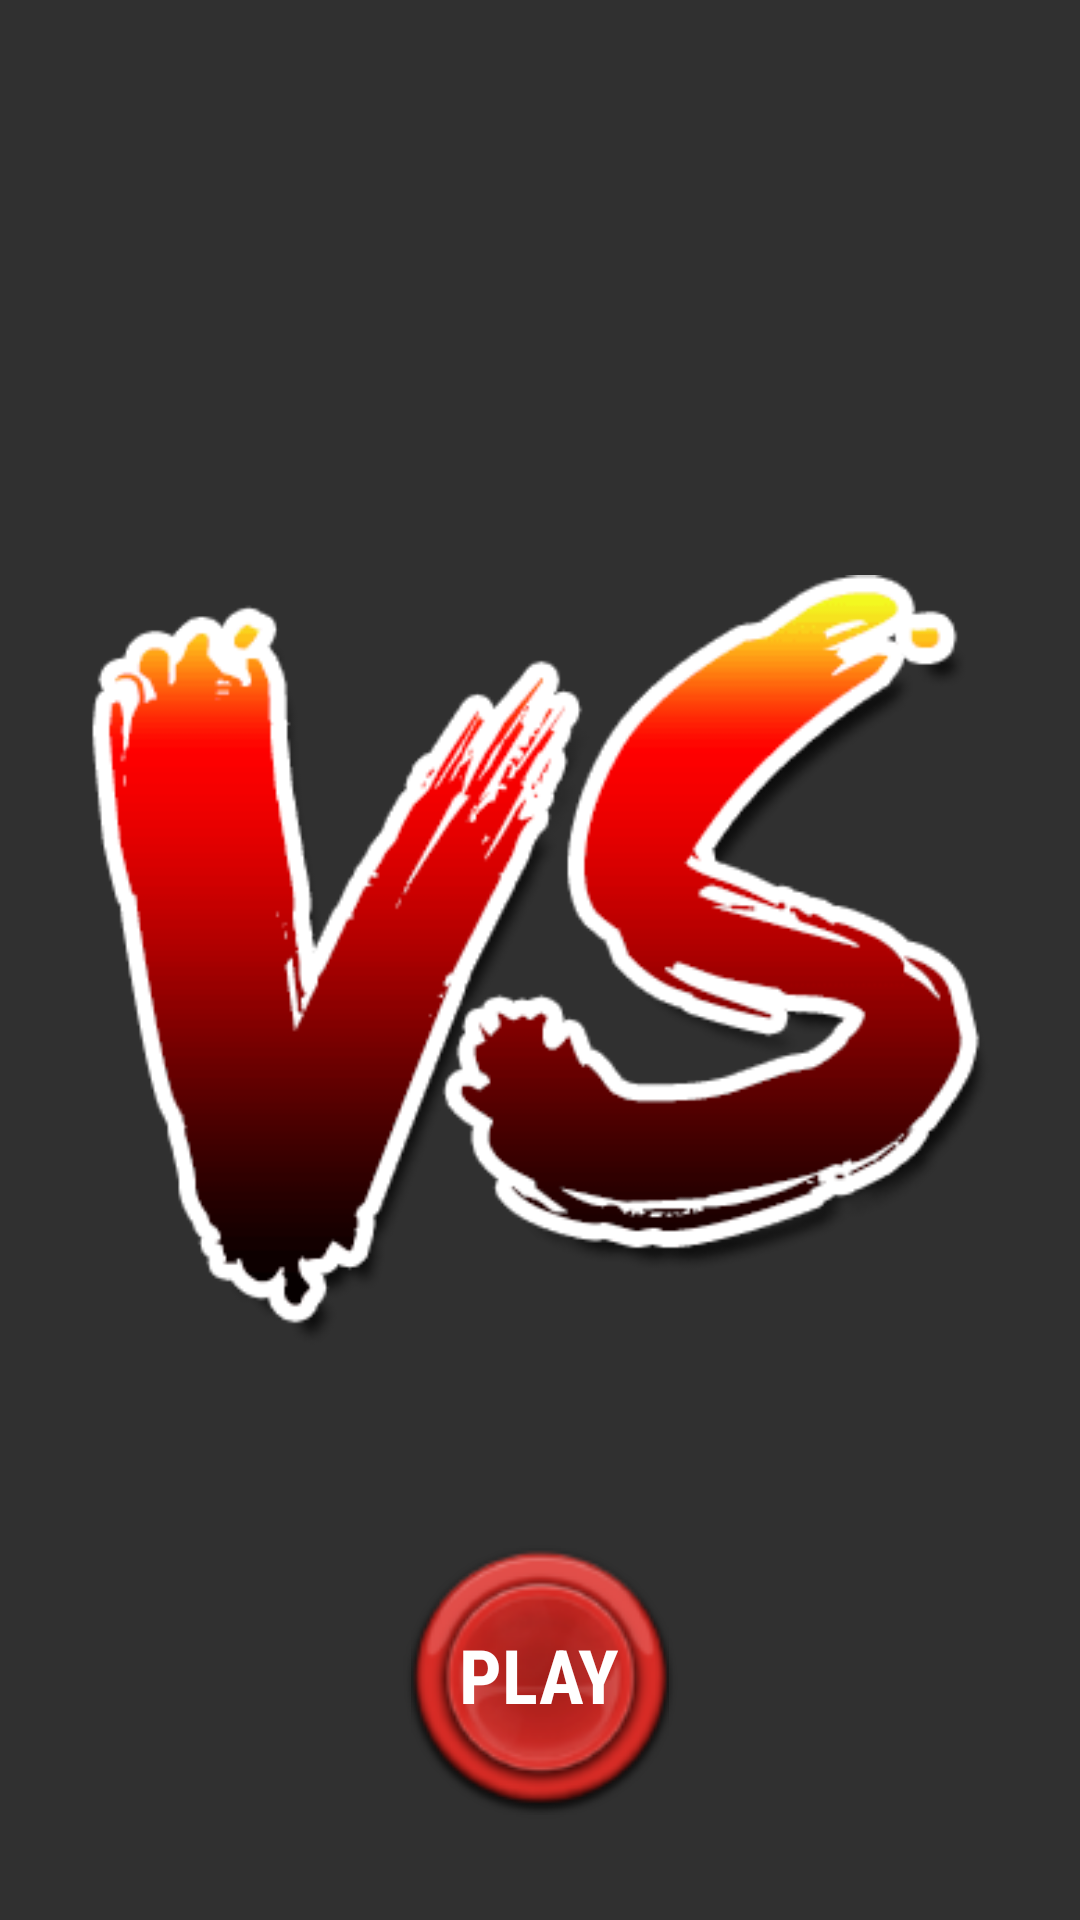

Icons on this 1080*1920 Android screen, each with its box as box=[x1, y1, x2, y2]:
click: box=[414, 1552, 669, 1808]
